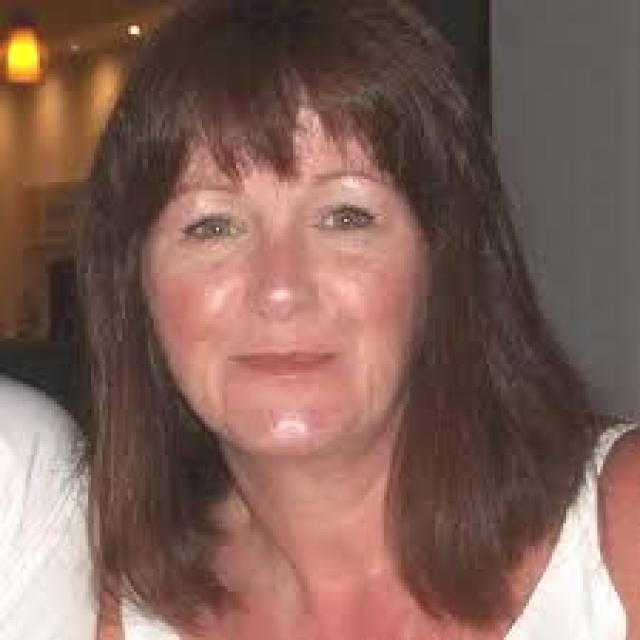normal_face: (106, 48, 452, 464)
